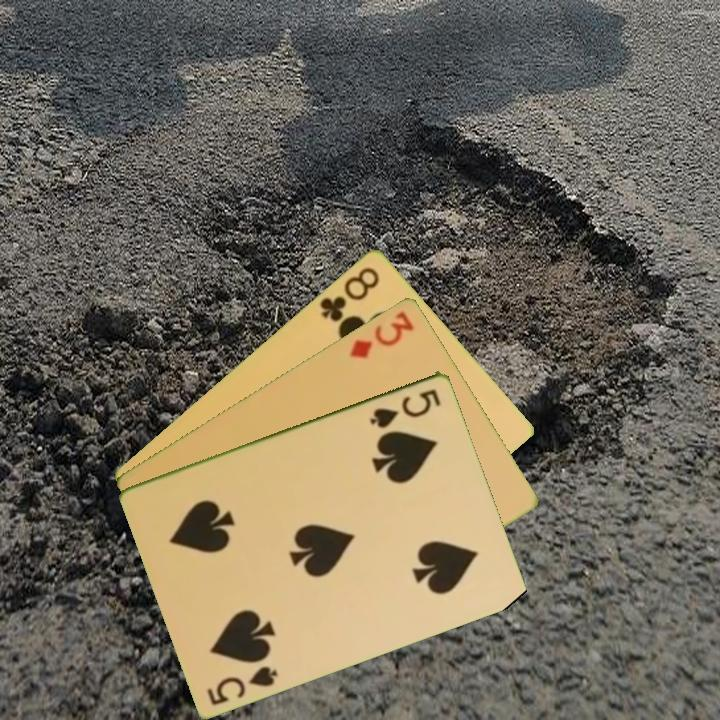3d: (345, 306, 417, 361)
5s: (366, 384, 444, 431), (203, 662, 281, 708)
8c: (316, 263, 383, 325)
